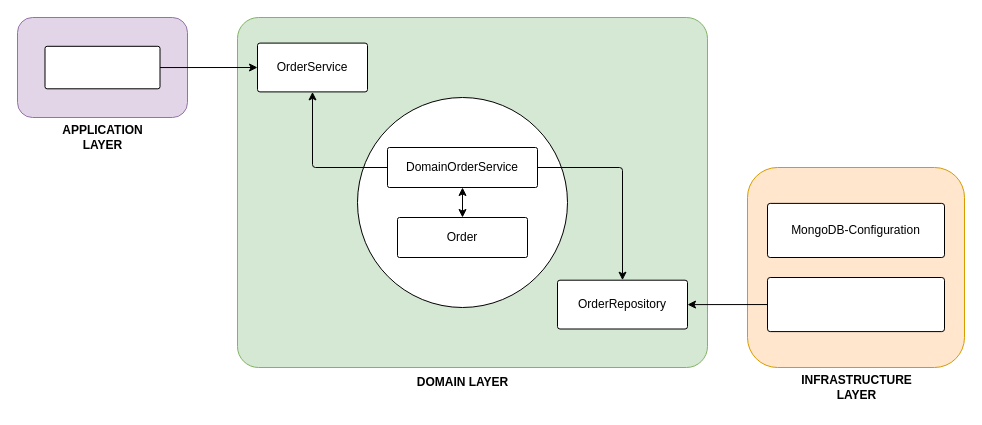
The diagram is 982 pixels wide and 425 high, and some of its shapes have lost their labels. The shapes that lost their labels are listed below. From the top down, each one's centre as x and y in pixels, then its label:
At point 102,67: "OrderController".
At point 855,304: "MongoDB-OrderRepository".
